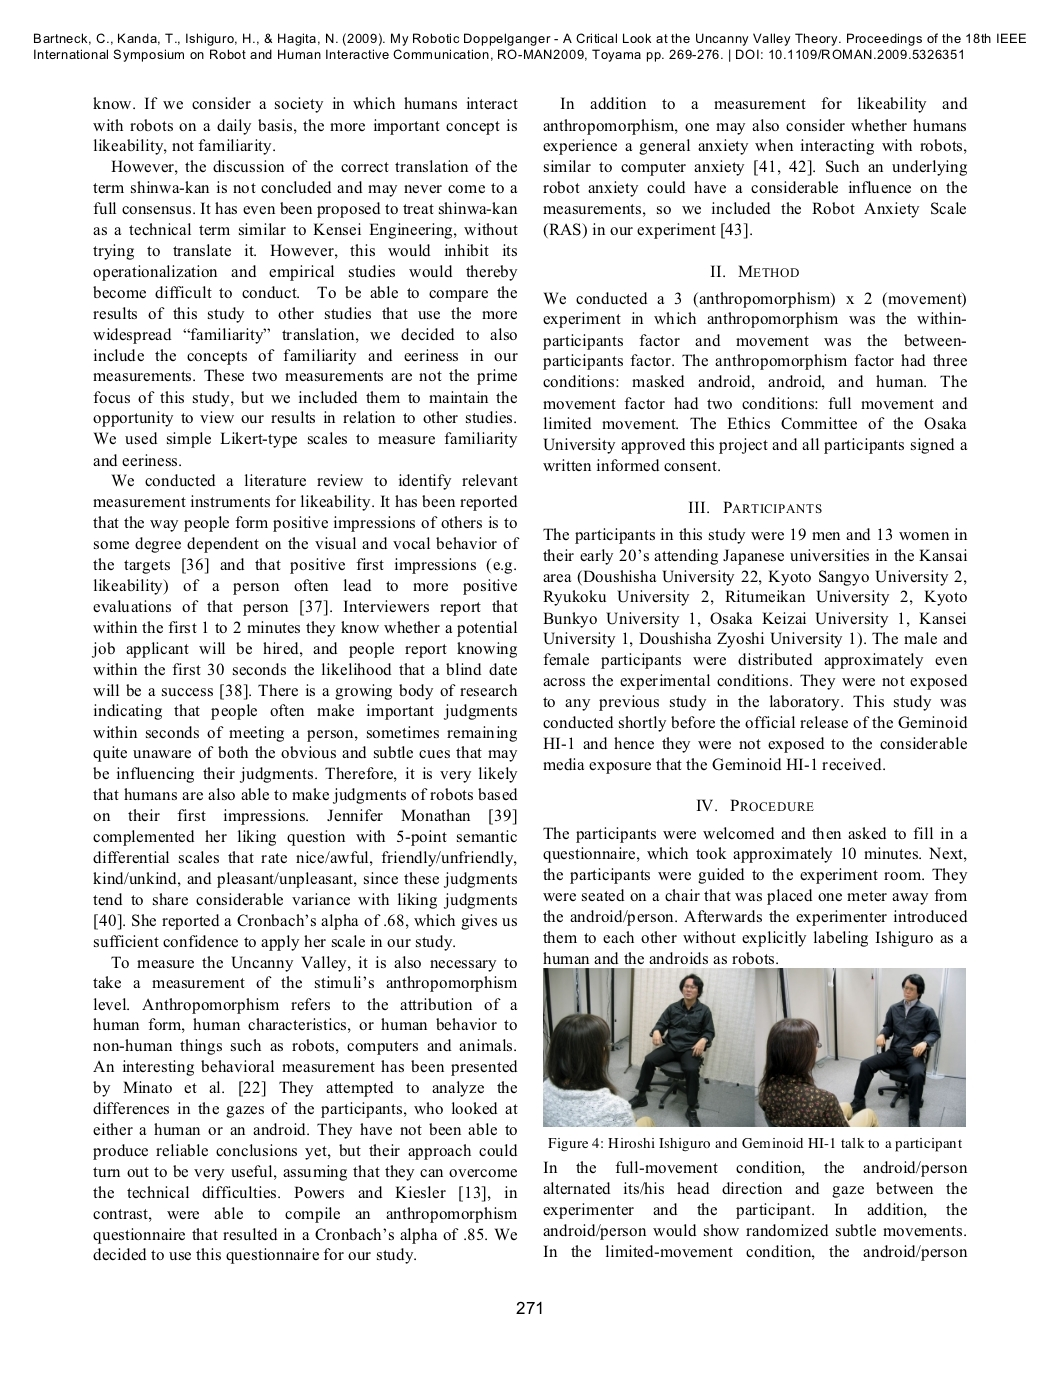figure: (543, 968, 965, 1126)
